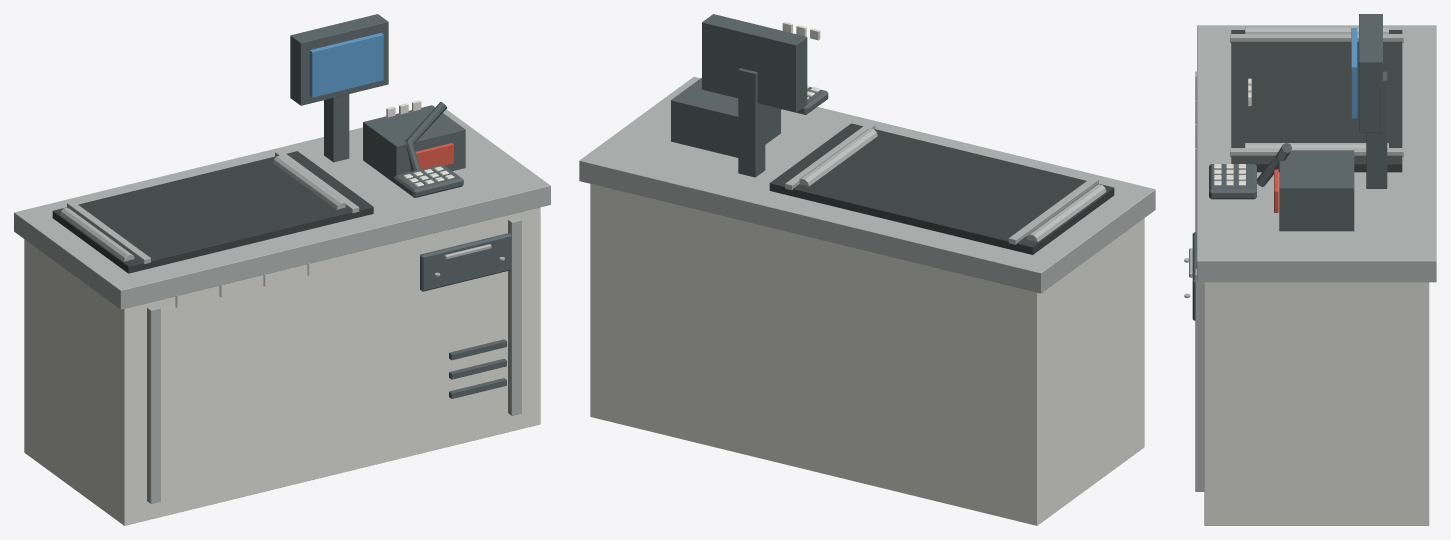
Rendered from Checkout_Conveyor.fbx.
3 renders of one model, left to right at view 1: azimuth 30°, elevation 25°; view 2: azimuth 150°, elevation 25°; view 3: azimuth 270°, elevation 25°, orthographic. The views are drawn at different scales.
Visible parts, largest first — view 1: Checkout_Conveyor__LPCXFER; view 2: Checkout_Conveyor__LPCXFER; view 3: Checkout_Conveyor__LPCXFER.
Boxes of the visible parts, bbox=[...] form: Checkout_Conveyor__LPCXFER: bbox=[14, 14, 550, 525]; Checkout_Conveyor__LPCXFER: bbox=[579, 14, 1155, 525]; Checkout_Conveyor__LPCXFER: bbox=[1184, 14, 1436, 525].
Bounding box in the file's own units: 186 × 154 × 84.25.
